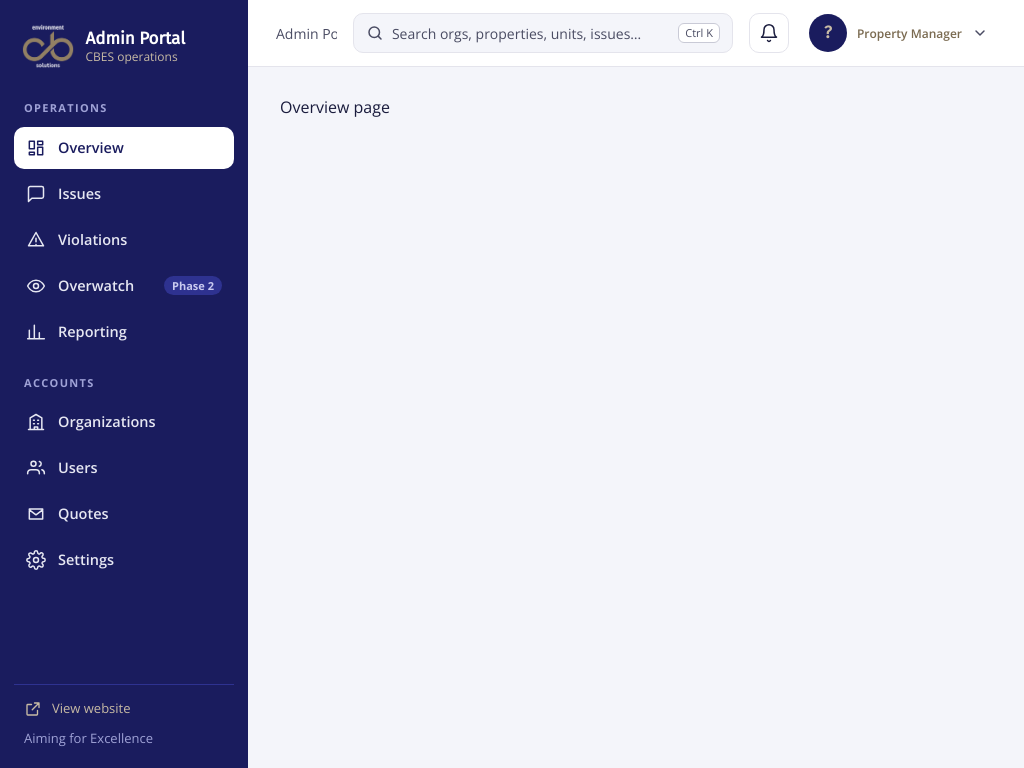
it: AdminShell › closes search with the X button
Type keys "{Control>}k{/Control}"
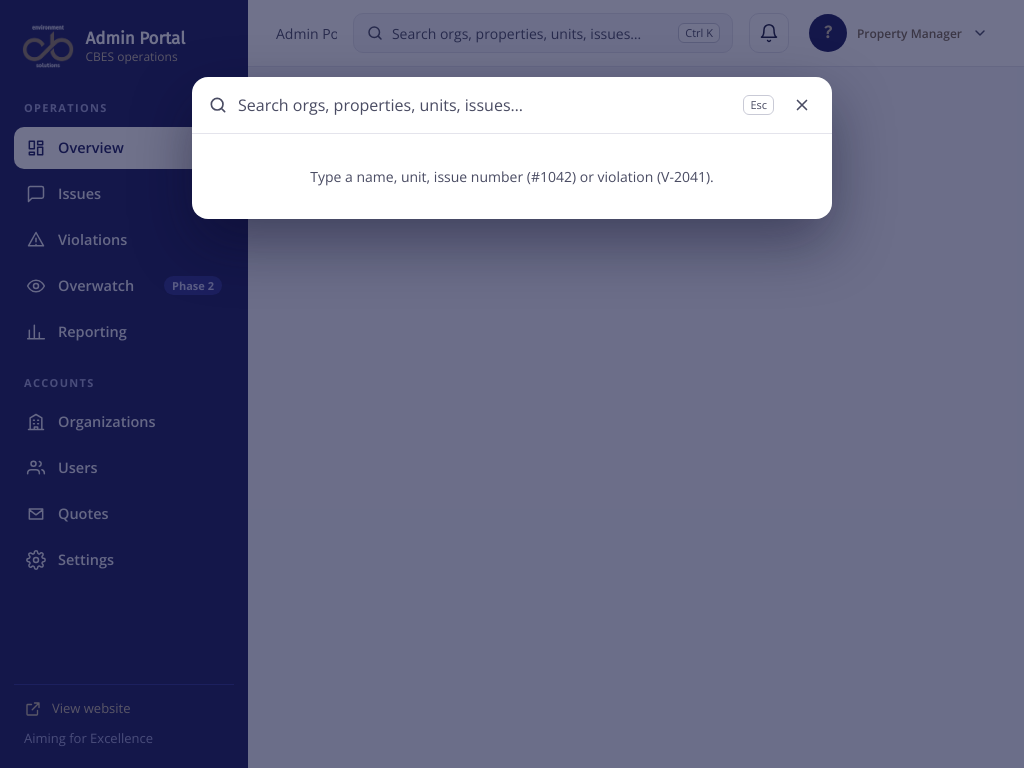
Click the button named "Close search": coordinates (802, 105) [784,87,820,123]
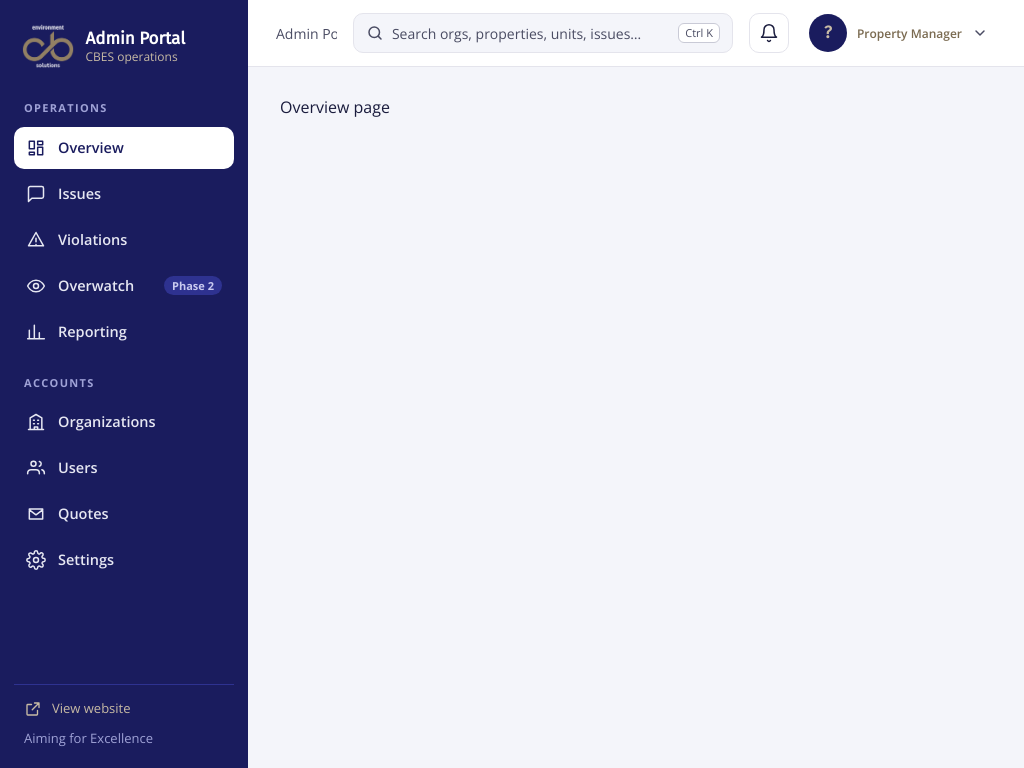
Expected: the dialog is gone
